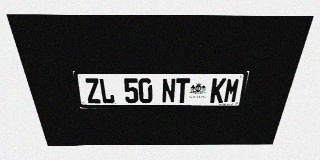0: (138, 78, 152, 103)
5: (124, 78, 139, 103)
K: (210, 78, 226, 103)
L: (98, 78, 115, 103)
M: (223, 78, 241, 103)
N: (162, 78, 176, 103)
T: (175, 78, 190, 103)
Z: (84, 78, 101, 103)
